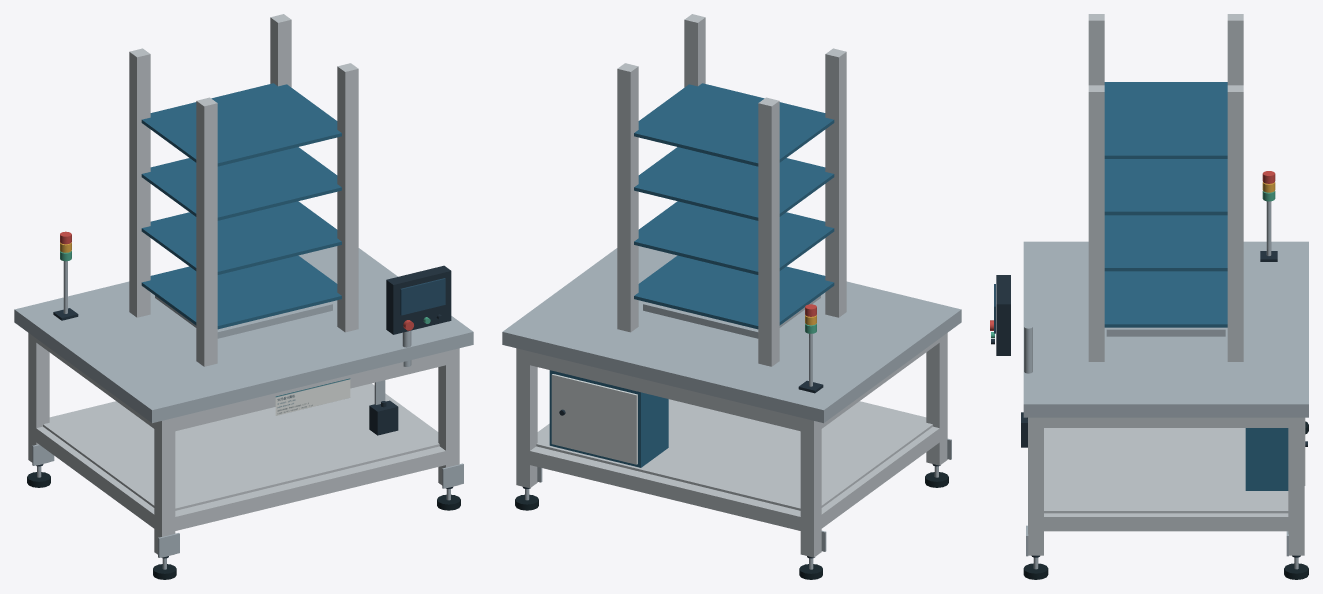
The model's file is pallet-dispenser-cell.glb.
3 renders of one model, left to right at view 1: azimuth 30°, elevation 25°; view 2: azimuth 150°, elevation 25°; view 3: azimuth 270°, elevation 25°, orthographic. The views are drawn at different scales.
Parts seen in each view (by area): view 1: ClosedMachineBed_28, LowerShelf_29, MagazineLedge_55, MagazineLedge_52, MagazineLedge_53, MagazineLedge_54, SlottedExtrusion_49, SlottedExtrusion_51, SlottedExtrusion_22, SlottedExtrusion_48, SlottedExtrusion_23, SlottedExtrusion_8 (+9 smaller); view 2: ClosedMachineBed_28, LowerShelf_29, MagazineLedge_55, MagazineLedge_52, MagazineLedge_53, MagazineLedge_54, BackDoor_31, SlottedExtrusion_48, SlottedExtrusion_50, SlottedExtrusion_20, SlottedExtrusion_49, SlottedExtrusion_21 (+8 smaller); view 3: ClosedMachineBed_28, LowerShelf_29, MagazineLedge_55, MagazineLedge_52, MagazineLedge_53, MagazineLedge_54, SlottedExtrusion_50, SlottedExtrusion_51, SlottedExtrusion_26, Cabinet_30, SlottedExtrusion_27, SlottedExtrusion_13 (+6 smaller).
Part boxes in pixels (bbox=[...]): ClosedMachineBed_28: bbox=[14, 246, 473, 423]; LowerShelf_29: bbox=[43, 384, 439, 510]; MagazineLedge_55: bbox=[141, 83, 341, 166]; MagazineLedge_52: bbox=[141, 255, 341, 329]; MagazineLedge_53: bbox=[141, 201, 341, 274]; MagazineLedge_54: bbox=[141, 147, 341, 220]; SlottedExtrusion_49: bbox=[196, 97, 217, 366]; SlottedExtrusion_51: bbox=[337, 63, 358, 332]; SlottedExtrusion_22: bbox=[175, 446, 452, 530]; SlottedExtrusion_48: bbox=[129, 48, 150, 317]; SlottedExtrusion_23: bbox=[169, 350, 452, 431]; SlottedExtrusion_8: bbox=[154, 418, 175, 557]; ClosedMachineBed_28: bbox=[502, 246, 961, 423]; LowerShelf_29: bbox=[536, 399, 932, 510]; MagazineLedge_55: bbox=[634, 83, 834, 166]; MagazineLedge_52: bbox=[634, 255, 834, 329]; MagazineLedge_53: bbox=[634, 201, 834, 274]; MagazineLedge_54: bbox=[634, 147, 834, 220]; BackDoor_31: bbox=[551, 374, 637, 464]; SlottedExtrusion_48: bbox=[758, 97, 779, 366]; SlottedExtrusion_50: bbox=[617, 63, 638, 332]; SlottedExtrusion_20: bbox=[530, 446, 806, 532]; SlottedExtrusion_49: bbox=[825, 48, 846, 317]; SlottedExtrusion_21: bbox=[523, 350, 807, 431]; ClosedMachineBed_28: bbox=[1023, 241, 1308, 417]; LowerShelf_29: bbox=[1044, 428, 1288, 513]; MagazineLedge_55: bbox=[1104, 82, 1227, 158]; MagazineLedge_52: bbox=[1104, 271, 1227, 327]; MagazineLedge_53: bbox=[1104, 215, 1227, 271]; MagazineLedge_54: bbox=[1104, 159, 1227, 215]; SlottedExtrusion_50: bbox=[1227, 85, 1243, 361]; SlottedExtrusion_51: bbox=[1088, 85, 1104, 361]; SlottedExtrusion_26: bbox=[1036, 513, 1296, 531]; Cabinet_30: bbox=[1245, 428, 1288, 490]; SlottedExtrusion_27: bbox=[1036, 417, 1296, 427]; SlottedExtrusion_13: bbox=[1288, 417, 1304, 555].
Size of the model in its own units: 1.55 by 2 by 1.29.
11 materials, 1 textured.
